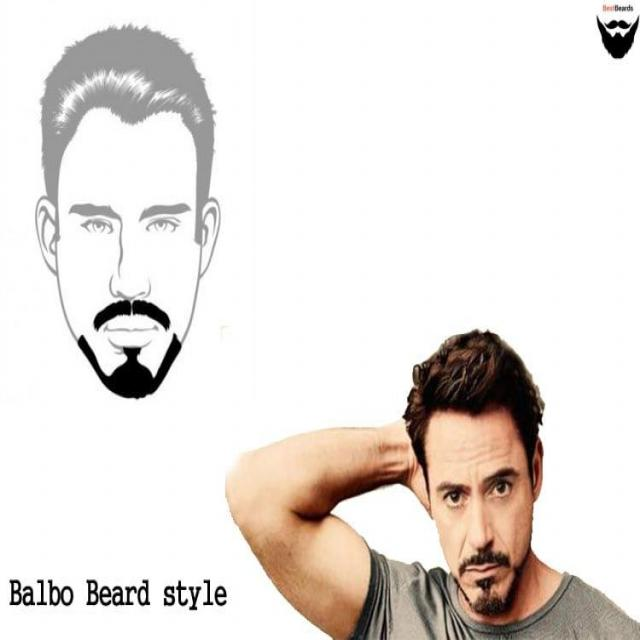beard: (78, 334, 182, 399), (457, 554, 531, 619), (94, 300, 170, 330), (459, 545, 512, 578)
hair: (41, 27, 214, 208), (404, 329, 545, 471)
